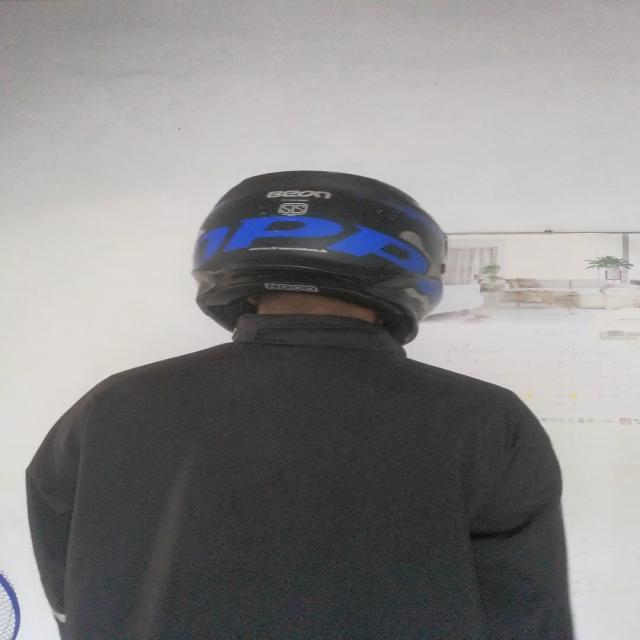Helmet_Wearer: (176, 160, 465, 378)
Jacket_Wearer: (21, 278, 590, 640)
Person: (38, 166, 568, 640)
